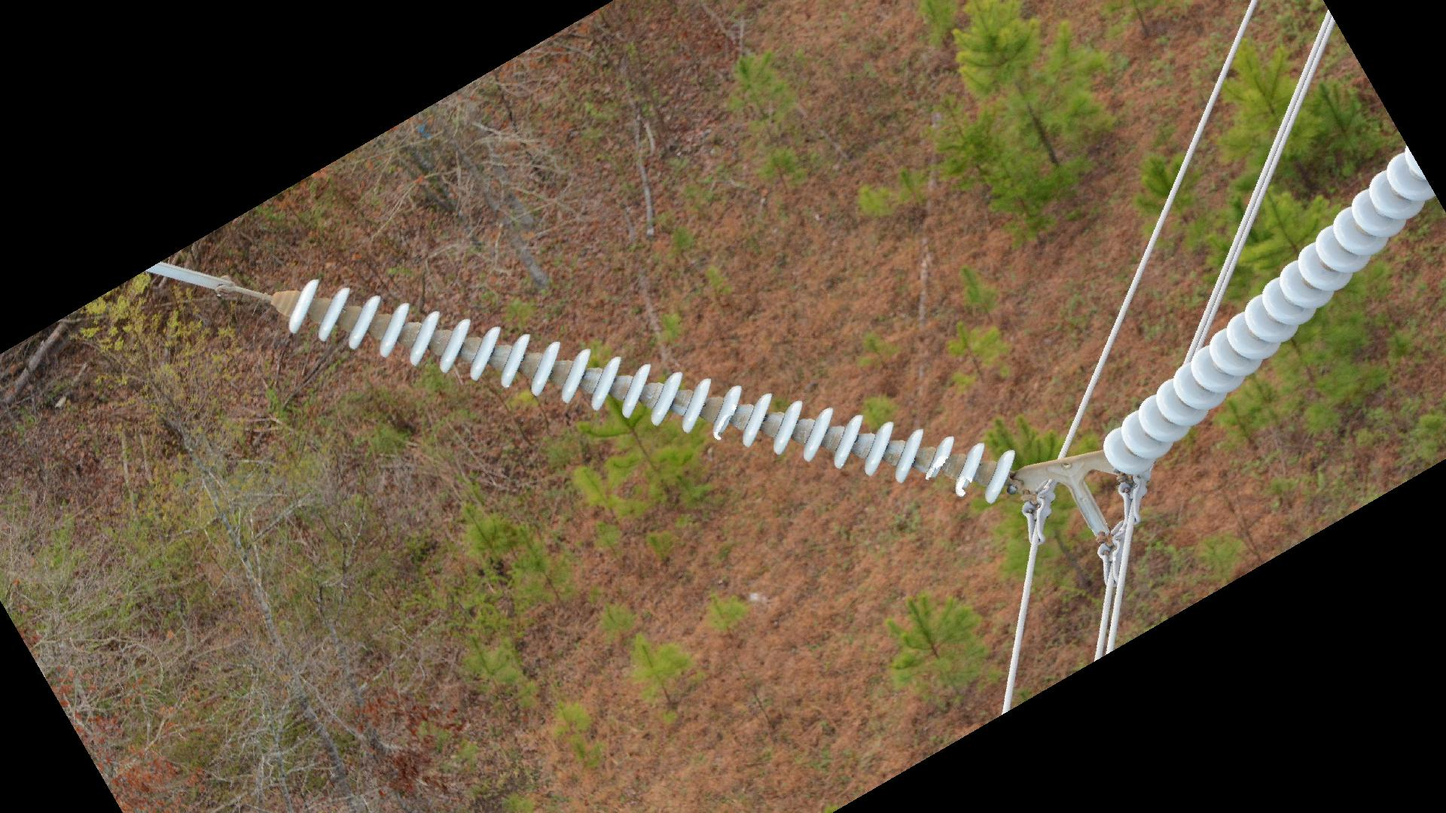insulator: (284, 276, 1022, 508), (1100, 144, 1435, 477)
insulator_breakage: (922, 453, 950, 483), (712, 411, 736, 442), (954, 473, 975, 499)
